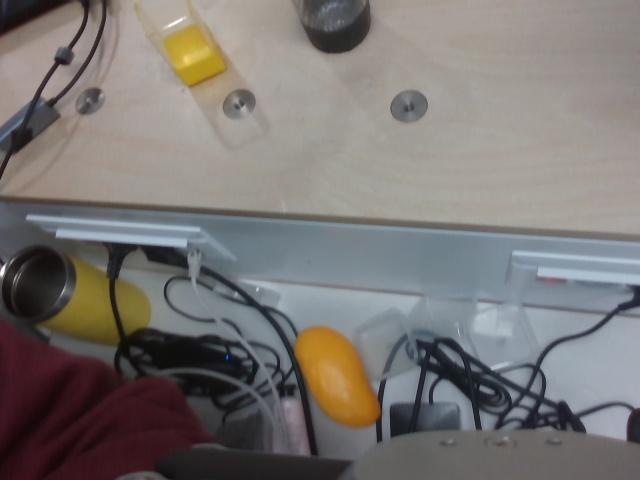yellow_cup: (164, 23, 226, 88)
